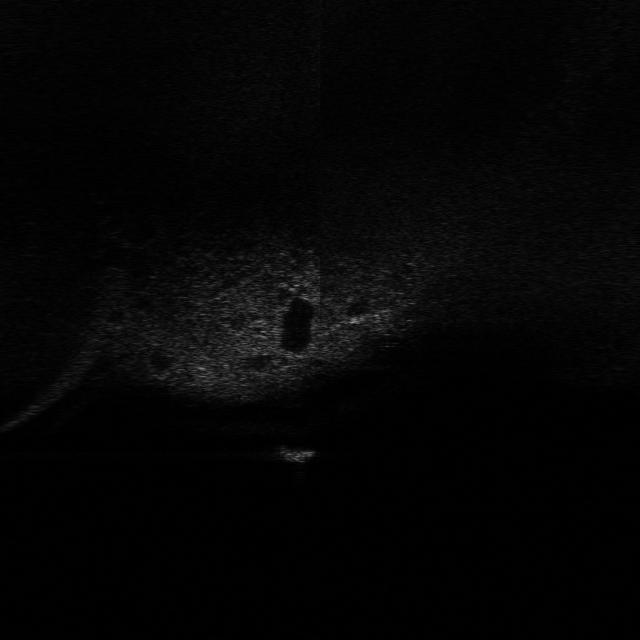cube: (266, 443, 322, 465)
